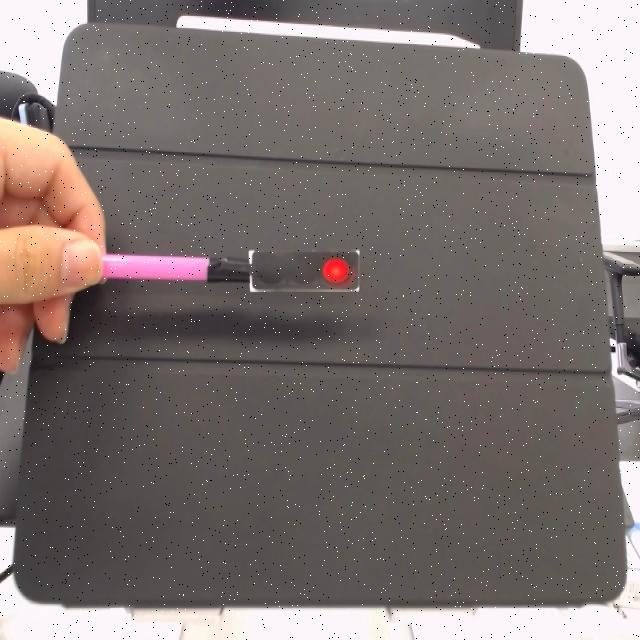traffic light: (248, 248, 365, 299)
